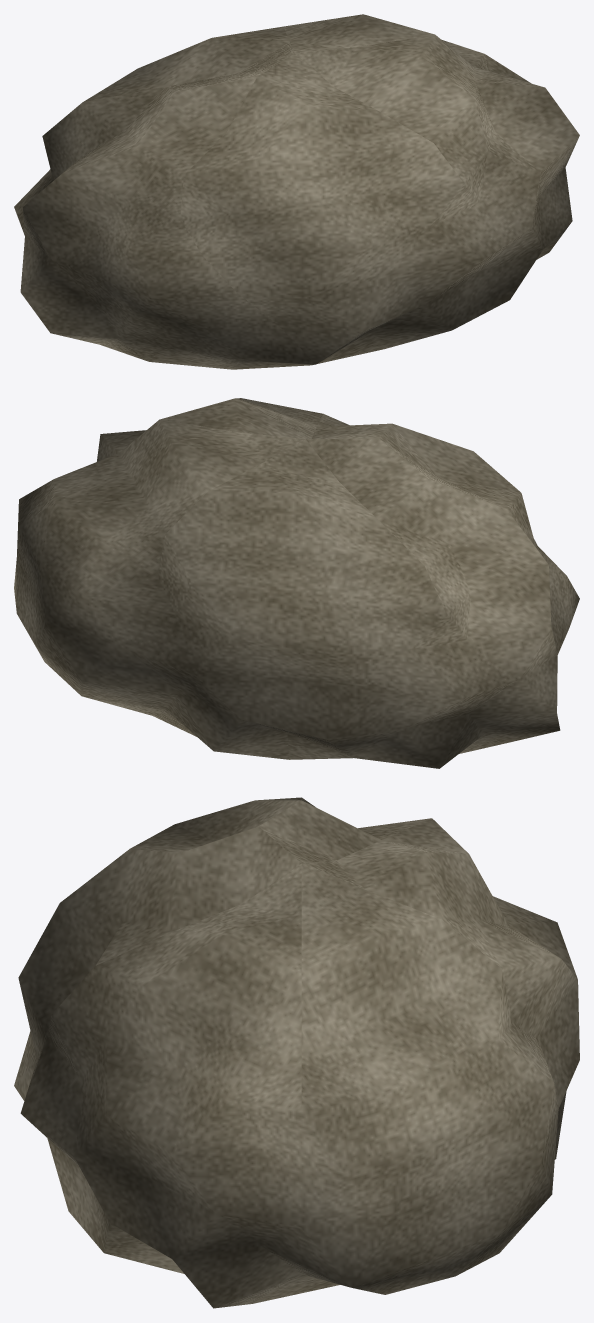
File: boulder-a.glb
The picture shows the model from 3 angles, top to bottom: view 1: azimuth 30°, elevation 25°; view 2: azimuth 150°, elevation 25°; view 3: azimuth 270°, elevation 25°; orthographic projection. The views are drawn at different scales.
Visible parts, largest first — view 1: boulder-a; view 2: boulder-a; view 3: boulder-a.
Boxes of the visible parts, x1,y1,x2,y2 form: boulder-a: (14, 14, 579, 369); boulder-a: (14, 398, 579, 768); boulder-a: (14, 797, 579, 1308).
Size of the model in its own units: 2.6 by 1.17 by 1.86.
Materials: 1 (1 with a texture image).
